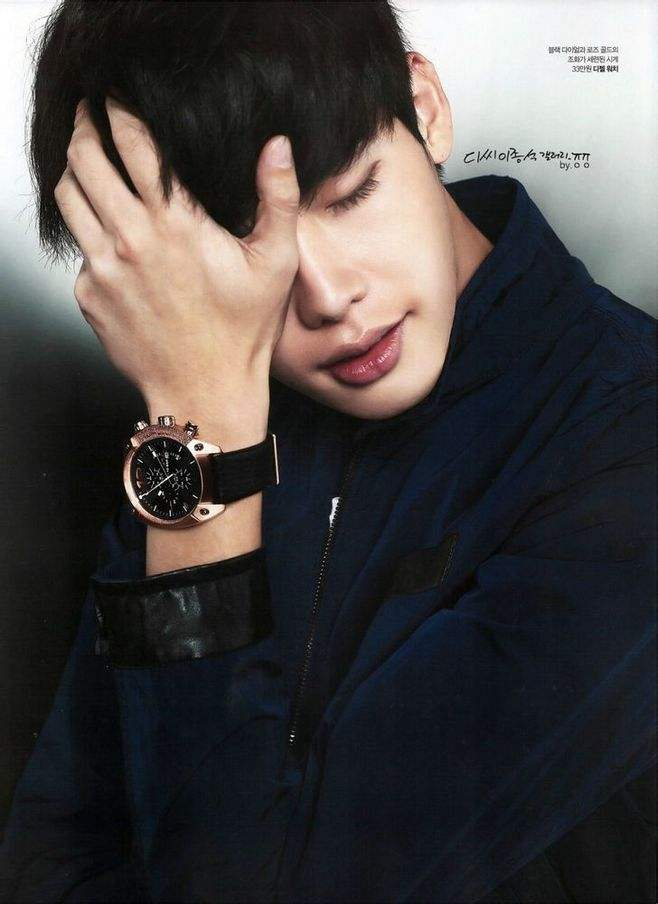person: (38, 14, 554, 705)
